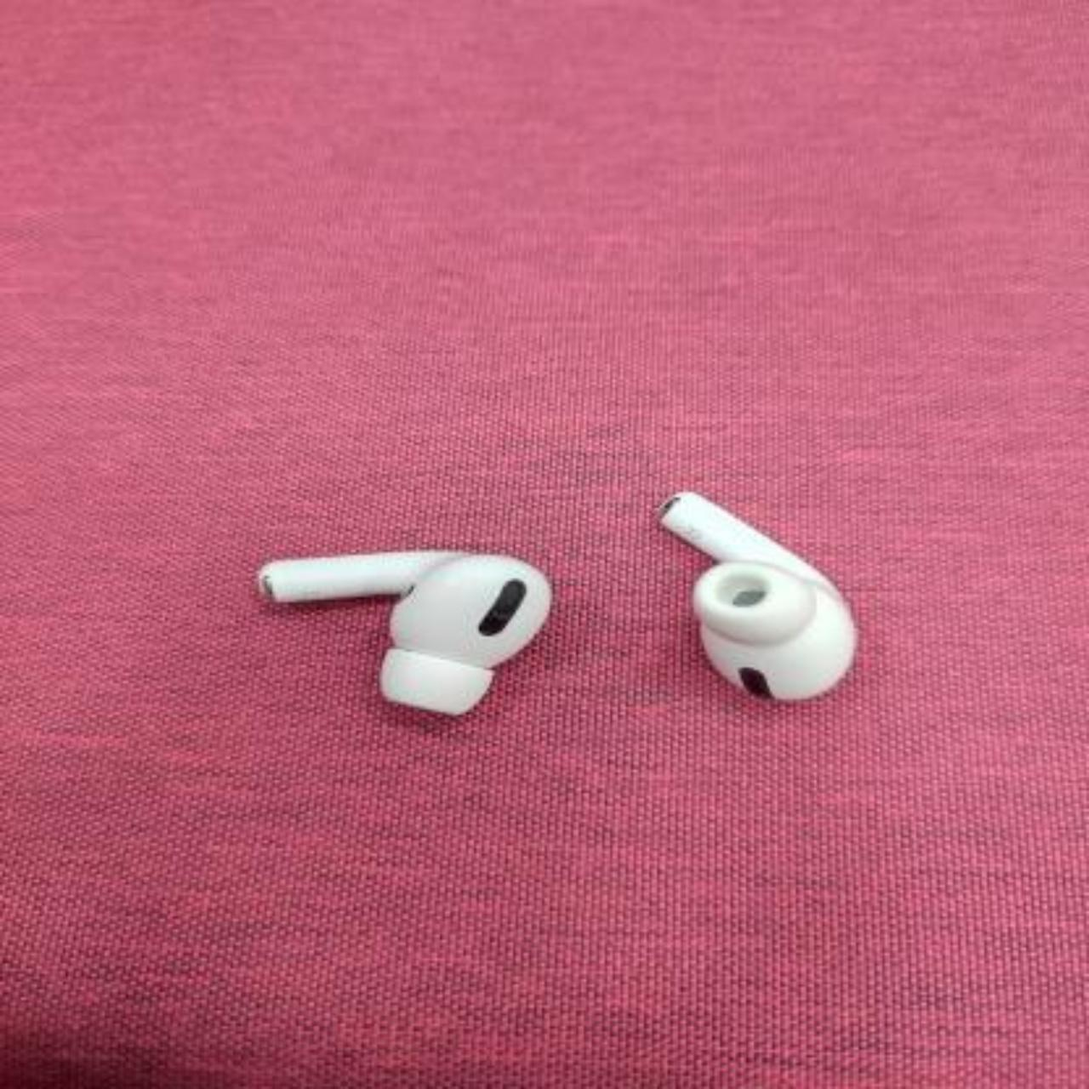Airpods_Units: (202, 521, 581, 725), (653, 480, 882, 731)
